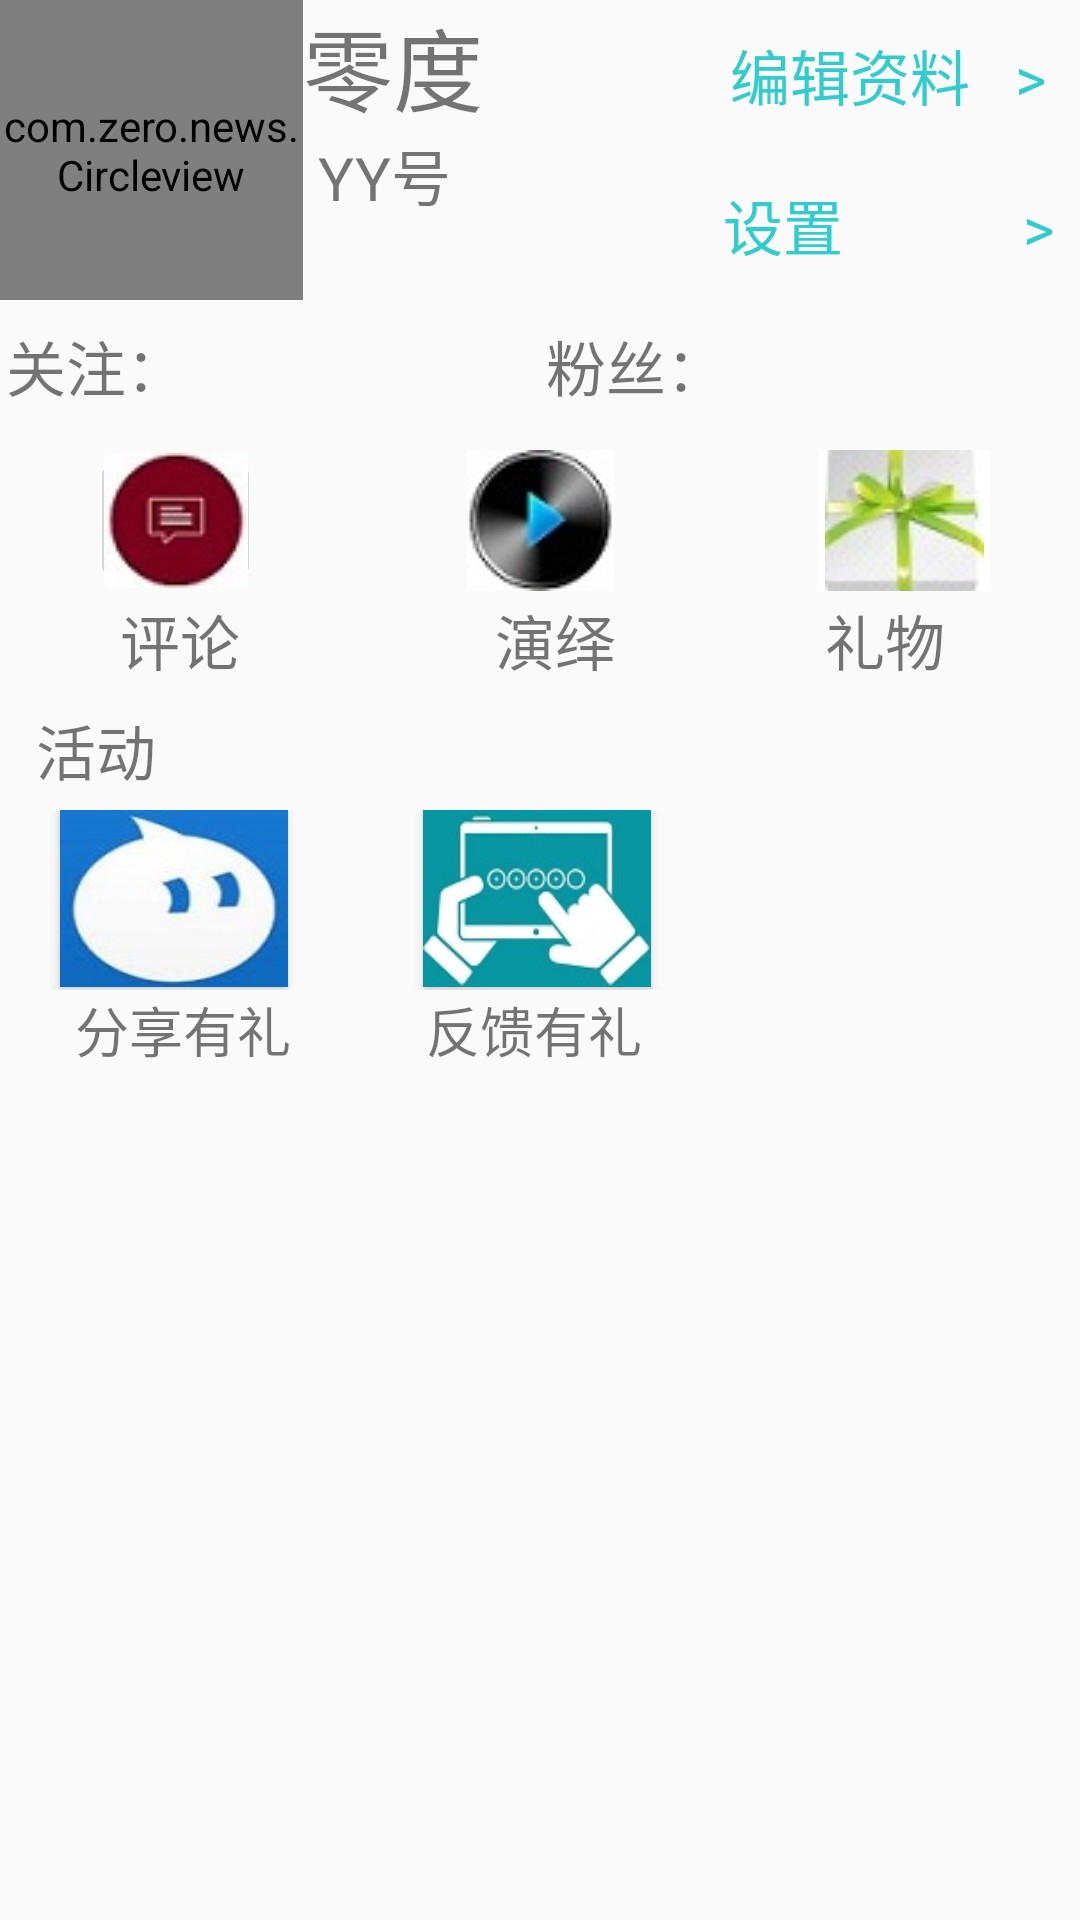

Screen size 1080 x 1920. Icon name, then its box in pixels as (x1, y1, x2, y2):
shiping: (469, 450, 612, 591)
